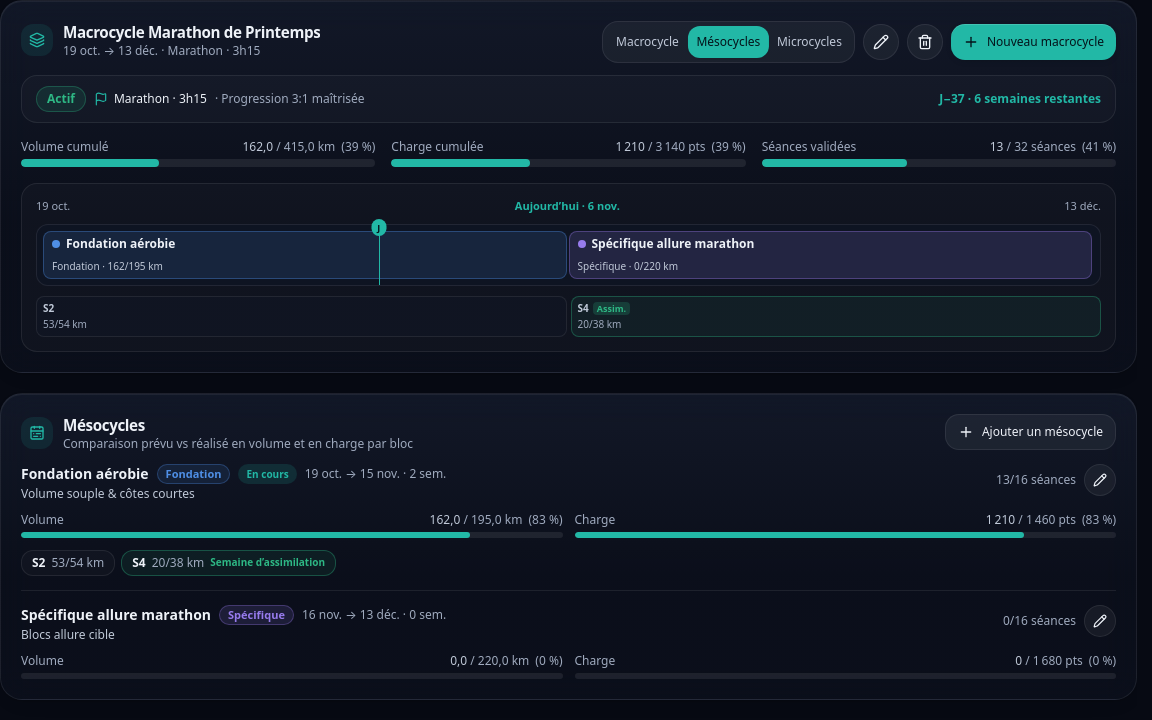
CyclesTimeline › renders Macrocycle, Mesocycle Gantt blocks, assimilation week badges, and switches zoom levels
What coordinates should you click on to do the following:
click the radio button labelled "Microcycles"
I would click on:
 (809, 42)
Its box is left=769, top=26, right=850, bottom=58.
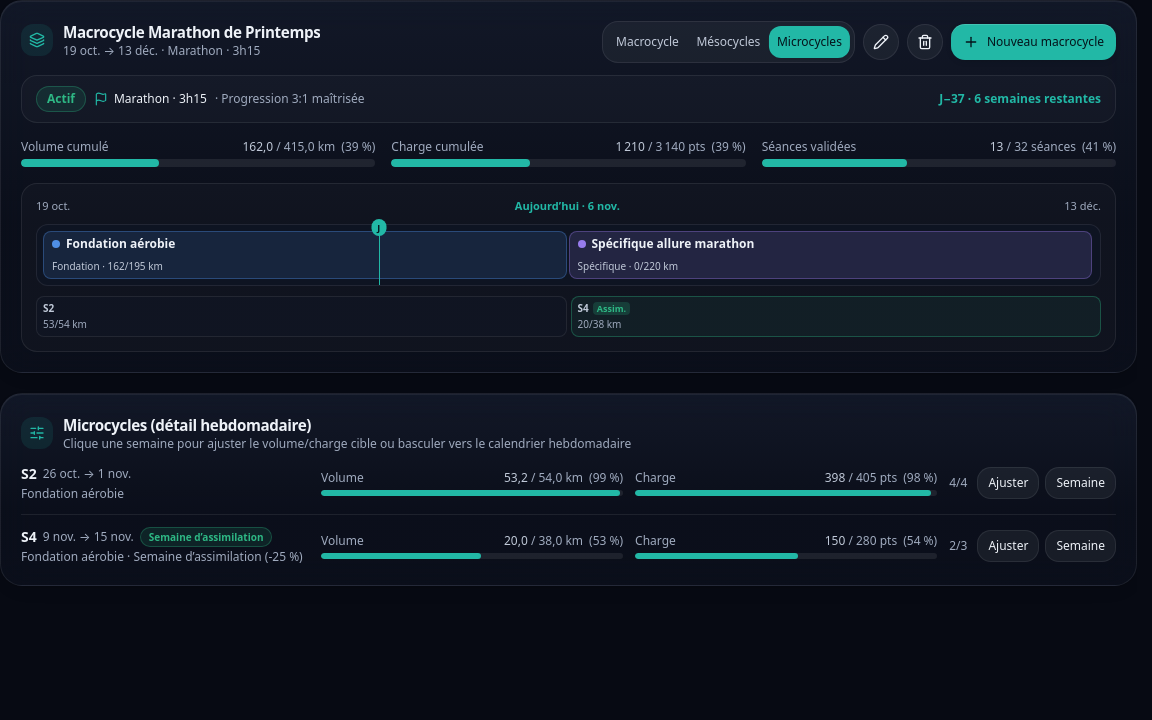
Expected: the text "Semaine d’assimilation (-25 %)" is shown, left=124, top=548, right=303, bottom=565
